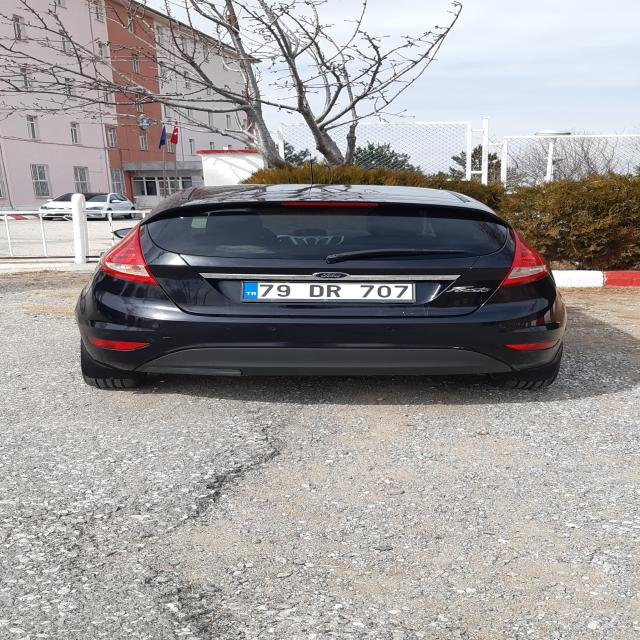license_plate: (242, 282, 415, 300)
